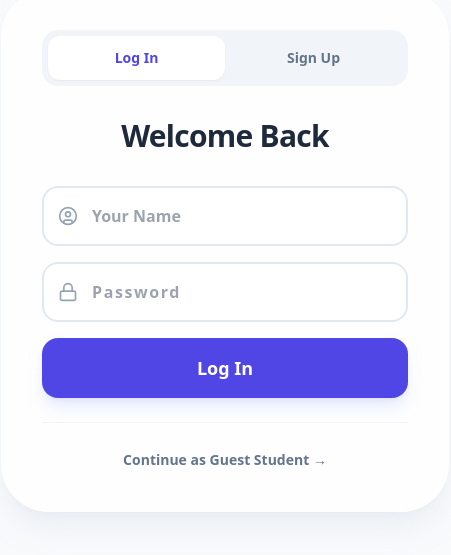
a server failure is visible, leaves the student signed out, and clears when switching modes
Click the button "Sign Up": (314, 58) [225,36,402,80]
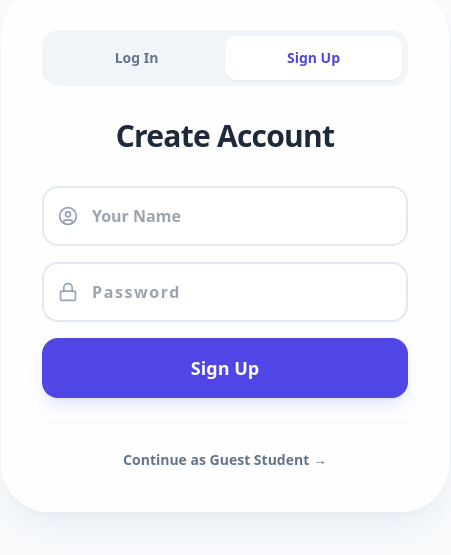
In the field with placeholder "Your Name": (225, 216) [42,186,408,246], type "  Student  "
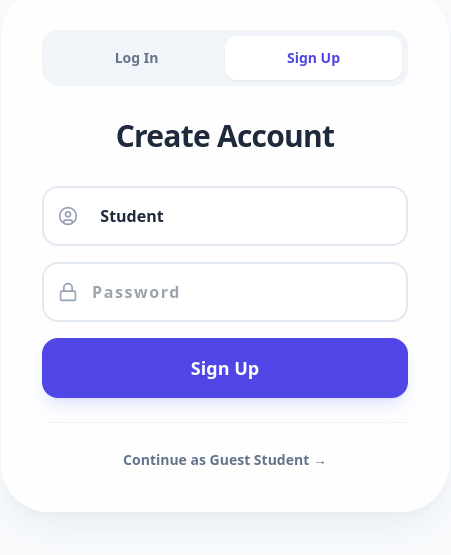
In the password field with placeholder "Password": (225, 292) [42,262,408,322], type "test-password-only"
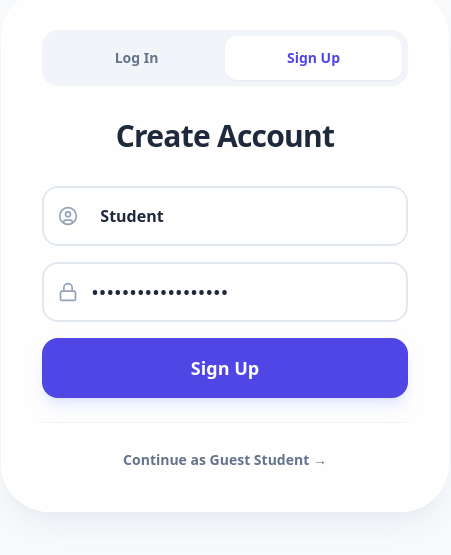
Click the 2nd button "Sign Up": (225, 368) [42,338,408,398]
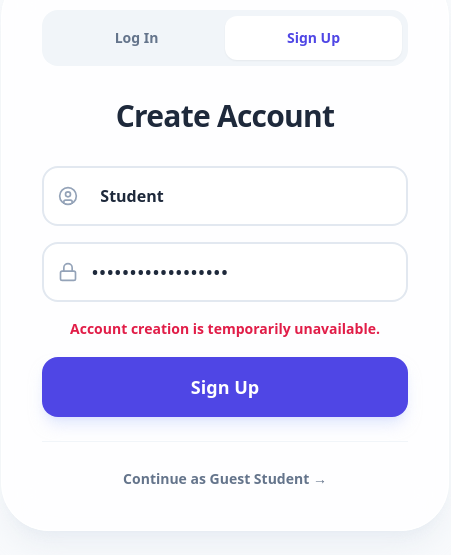
Check: the message reads "Account creation is temporarily unavailable.", box [70,319,380,338]
Click the button "Log In": (136, 38) [48,16,225,60]
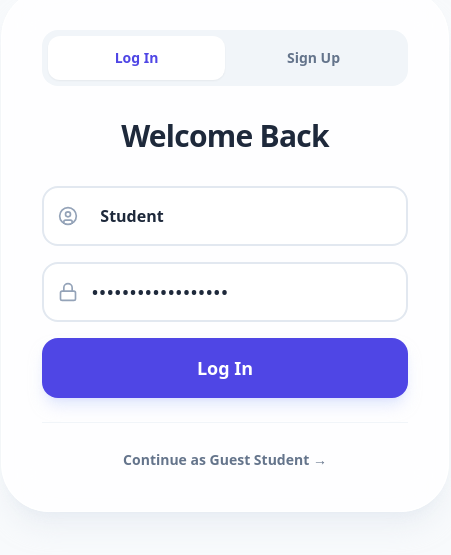
Check: the message "Account creation is temporarily unavailable." is gone
